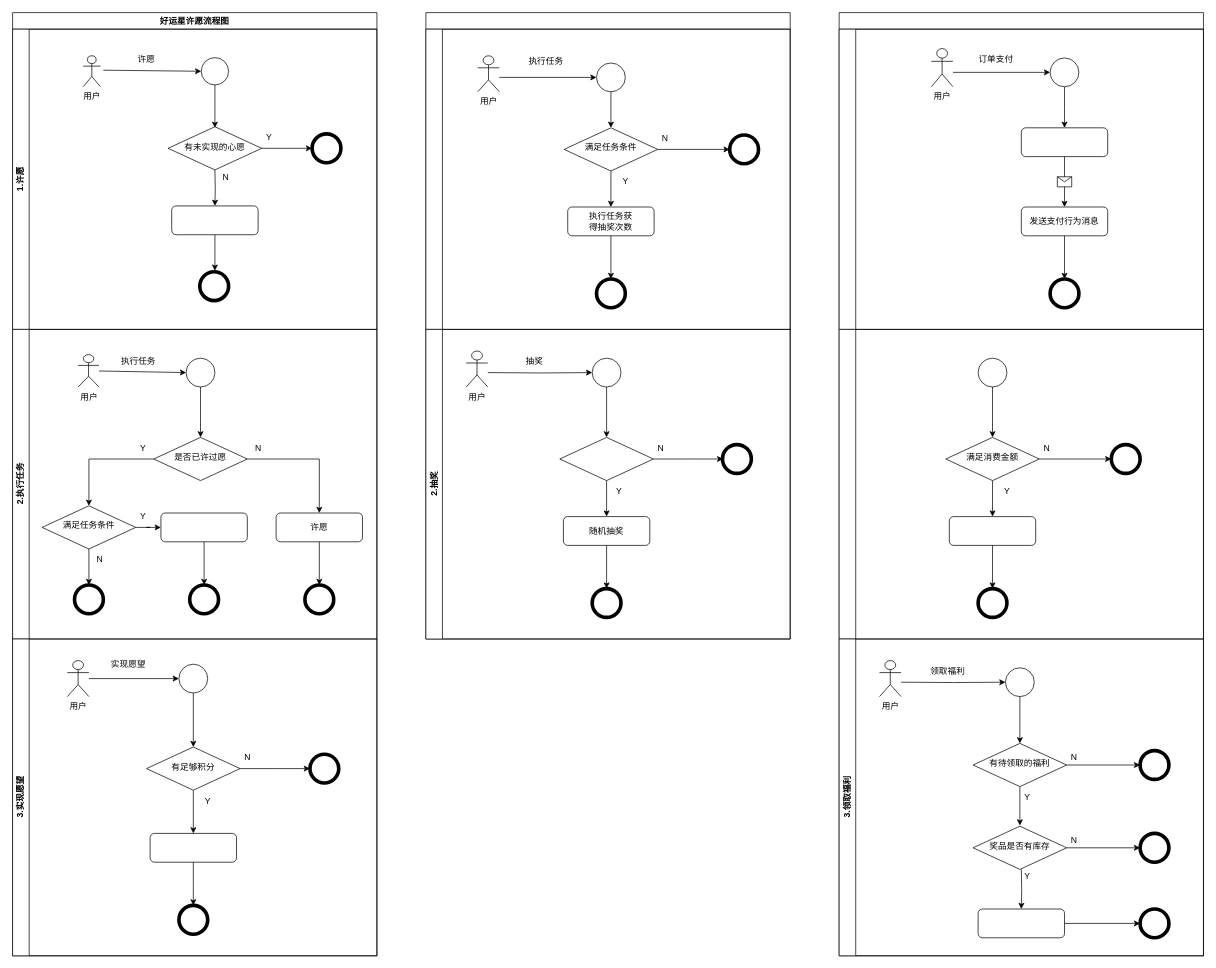
The diagram is 1216 pixels wide and 968 high, and some of its shapes have lost their labels. The box of each missing label's shape, as (x1, y1, x2, y2) in pixels:
1.执行任务: (425, 28, 790, 329)
1.订单支付（执行任务阶段一：发送行为消息）: (838, 28, 1203, 329)
2.赠送福利（执行任务阶段二：处理支付行为消息）: (838, 329, 1203, 639)
兑换心愿奖品: (149, 833, 237, 862)
发放活动奖品: (977, 908, 1065, 938)
执行任务送积分: (160, 512, 247, 542)
抽奖转盘流程图: (425, 12, 790, 639)
更新订单支付完成: (1021, 127, 1108, 157)
有抽奖次数: (559, 437, 653, 481)
给用户赠送福利: (949, 516, 1036, 545)
老用户福利流程图: (838, 12, 1203, 956)
选择奖品完成许愿: (171, 205, 258, 235)
